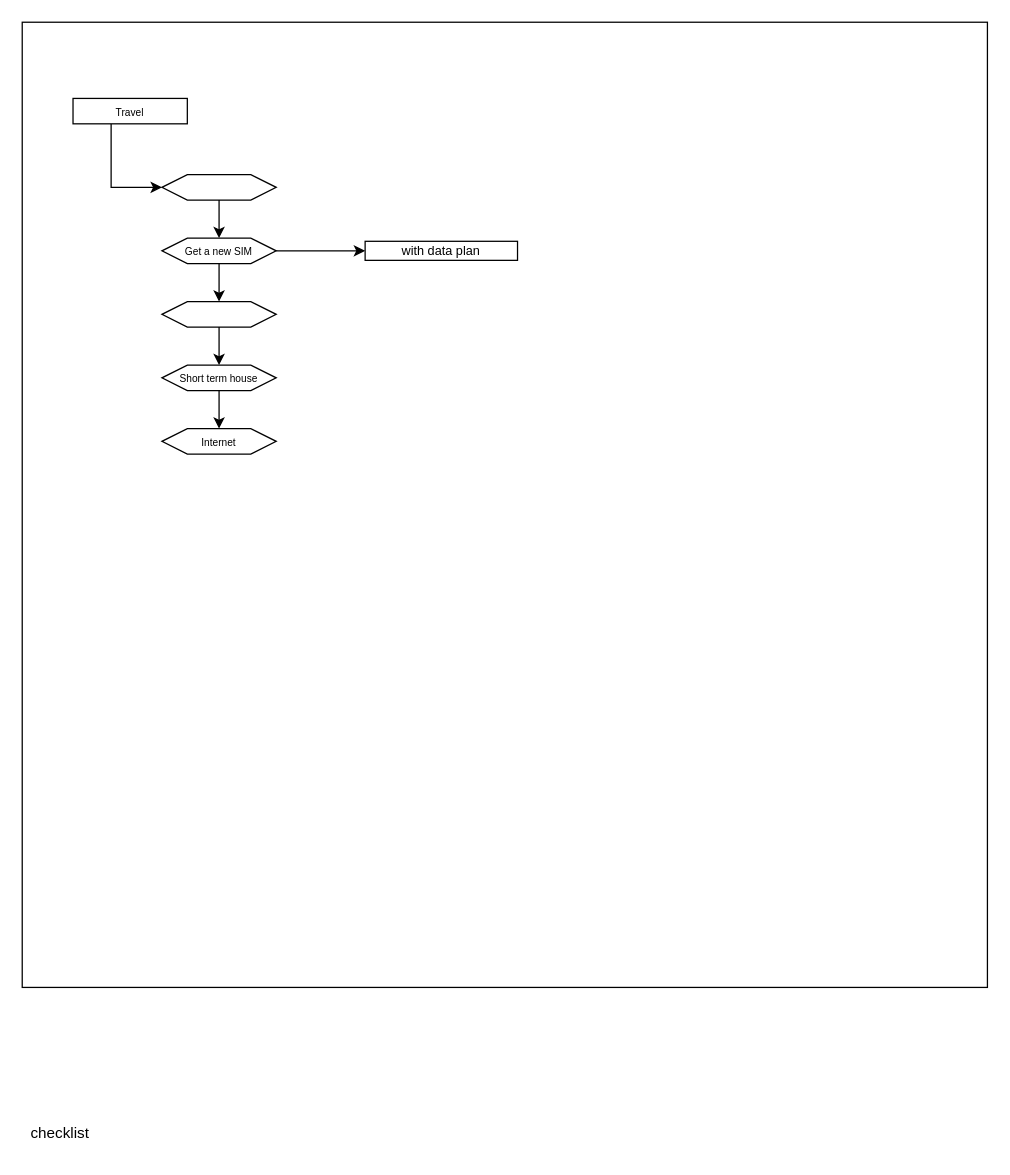
Some shapes in this 1010 by 1175 pixel diagram are drawn without their labels. Each missing label, with the box of its shape:
Get work permit: (161, 173, 276, 200)
New bank account: (161, 300, 276, 327)
